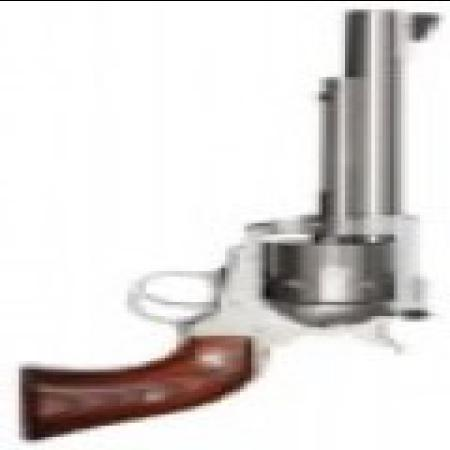Pistol: (33, 12, 442, 445)
